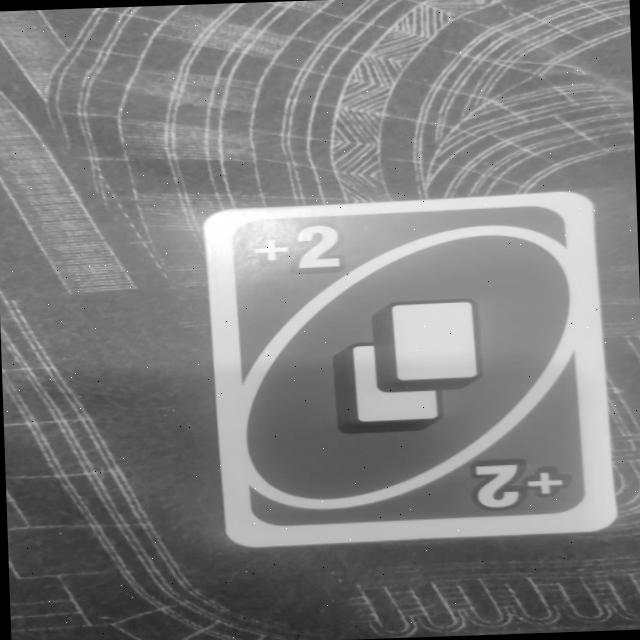card_2-: (201, 189, 617, 548)
